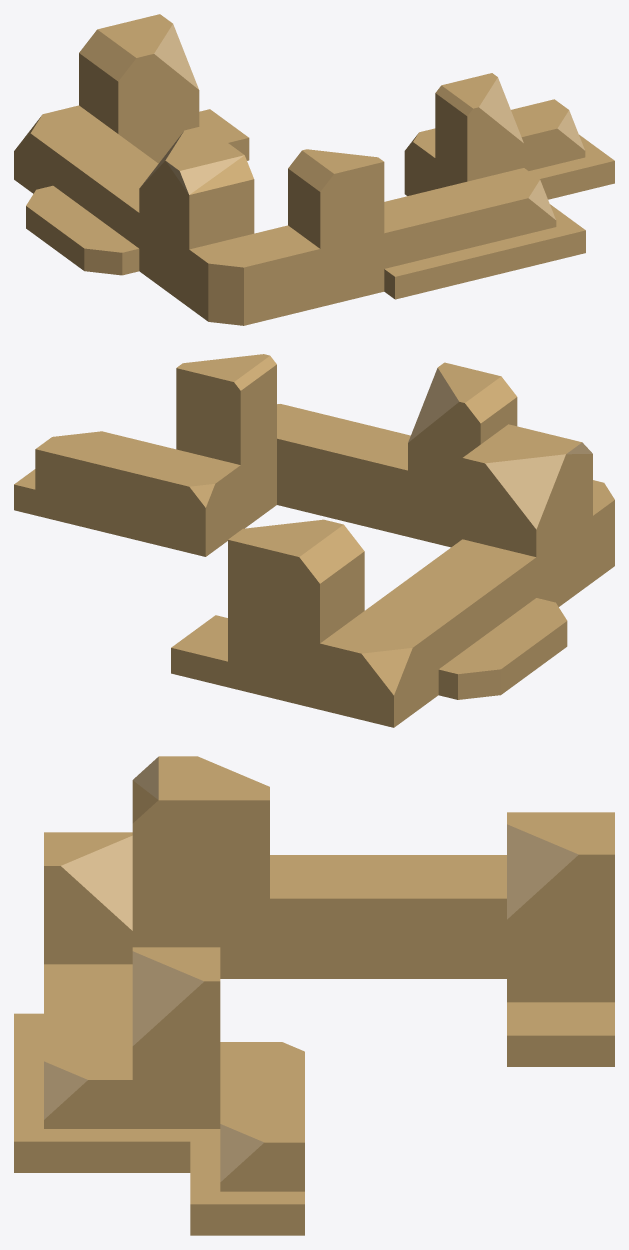
Rendered from ruin_11.fbx.
The picture shows the model from 3 angles, top to bottom: view 1: azimuth 30°, elevation 25°; view 2: azimuth 150°, elevation 25°; view 3: azimuth 270°, elevation 25°; orthographic projection. The views are drawn at different scales.
Visible parts, largest first — view 1: ruin_11; view 2: ruin_11; view 3: ruin_11.
Boxes of the visible parts, left/top/right/bottom form: ruin_11: left=14, top=14, right=614, bottom=325; ruin_11: left=14, top=354, right=614, bottom=727; ruin_11: left=14, top=756, right=614, bottom=1235.
Bounding box in the file's own units: 400 × 102 × 310.
